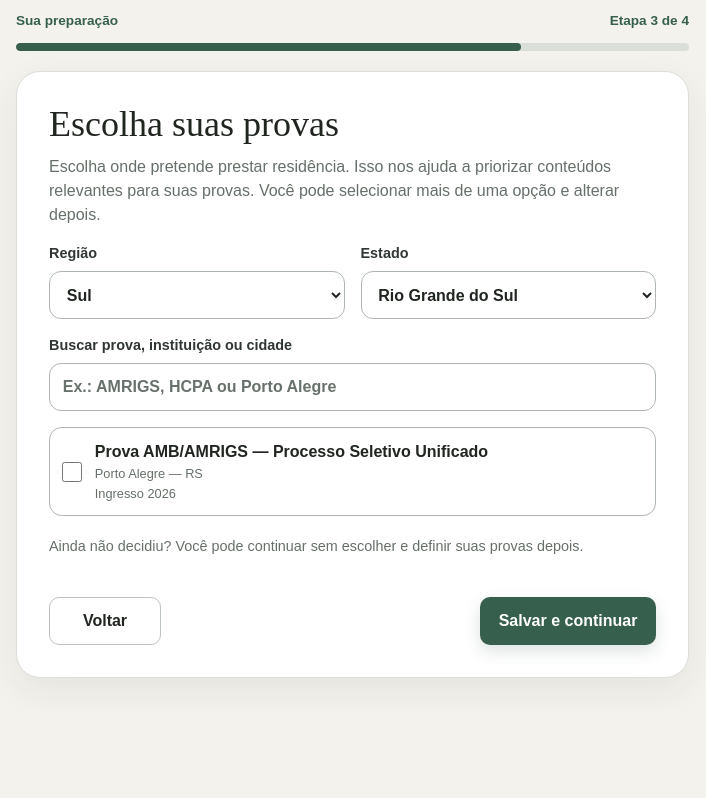
Scenario: provas-alvo regionais do onboarding › prioriza o Rio Grande do Sul e pesquisa por sigla, instituição ou cidade
This screenshot has width=706, height=798.
Expected: the text "Prova AMB/AMRIGS — Processo Seletivo Unificado" is shown, top-left (95, 440), bottom-right (488, 464)
Expected: the text "Hospital Universitário da UFSC" is not shown
Select "Todos" in the dropdown labelled "Estado" at (508, 295), box top-left (360, 271), bottom-right (656, 319)
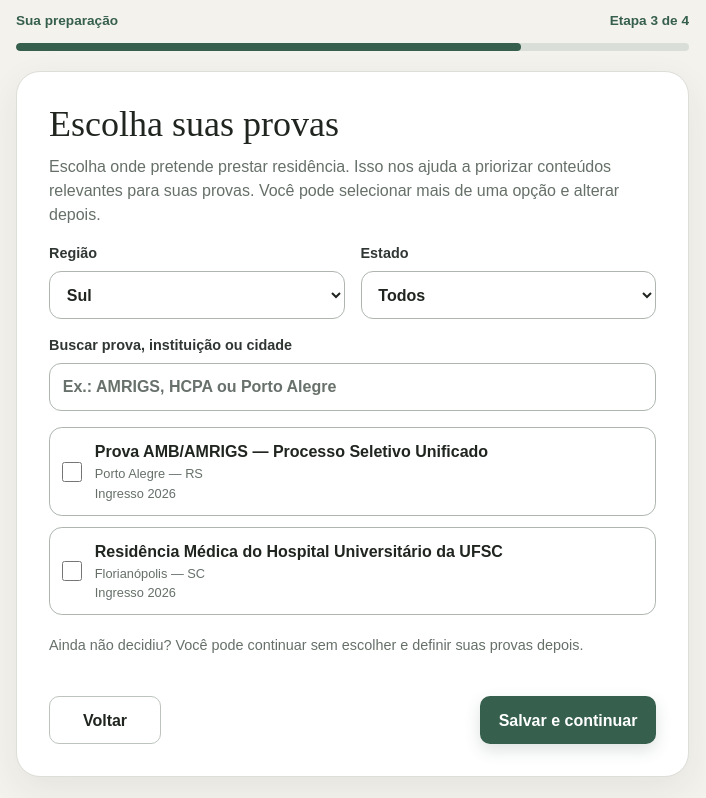
Type "Florianópolis" into the search field labelled "Buscar prova, instituição ou cidade" at (352, 387), box top-left (49, 363), bottom-right (656, 411)
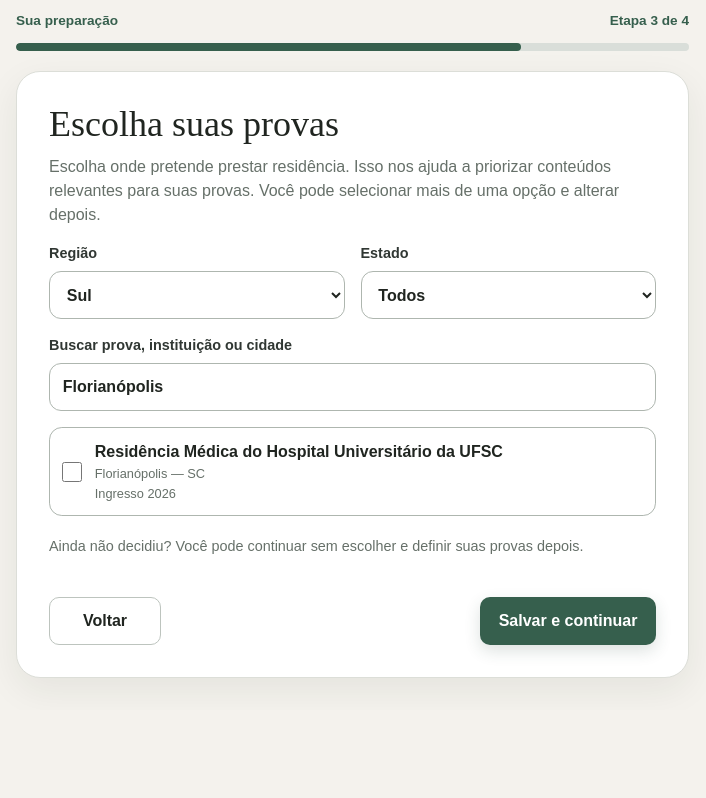
Expected: the text "Residência Médica do Hospital Universitário da UFSC" is shown, top-left (95, 440), bottom-right (503, 464)
Expected: the text "Prova AMB/AMRIGS" is gone
